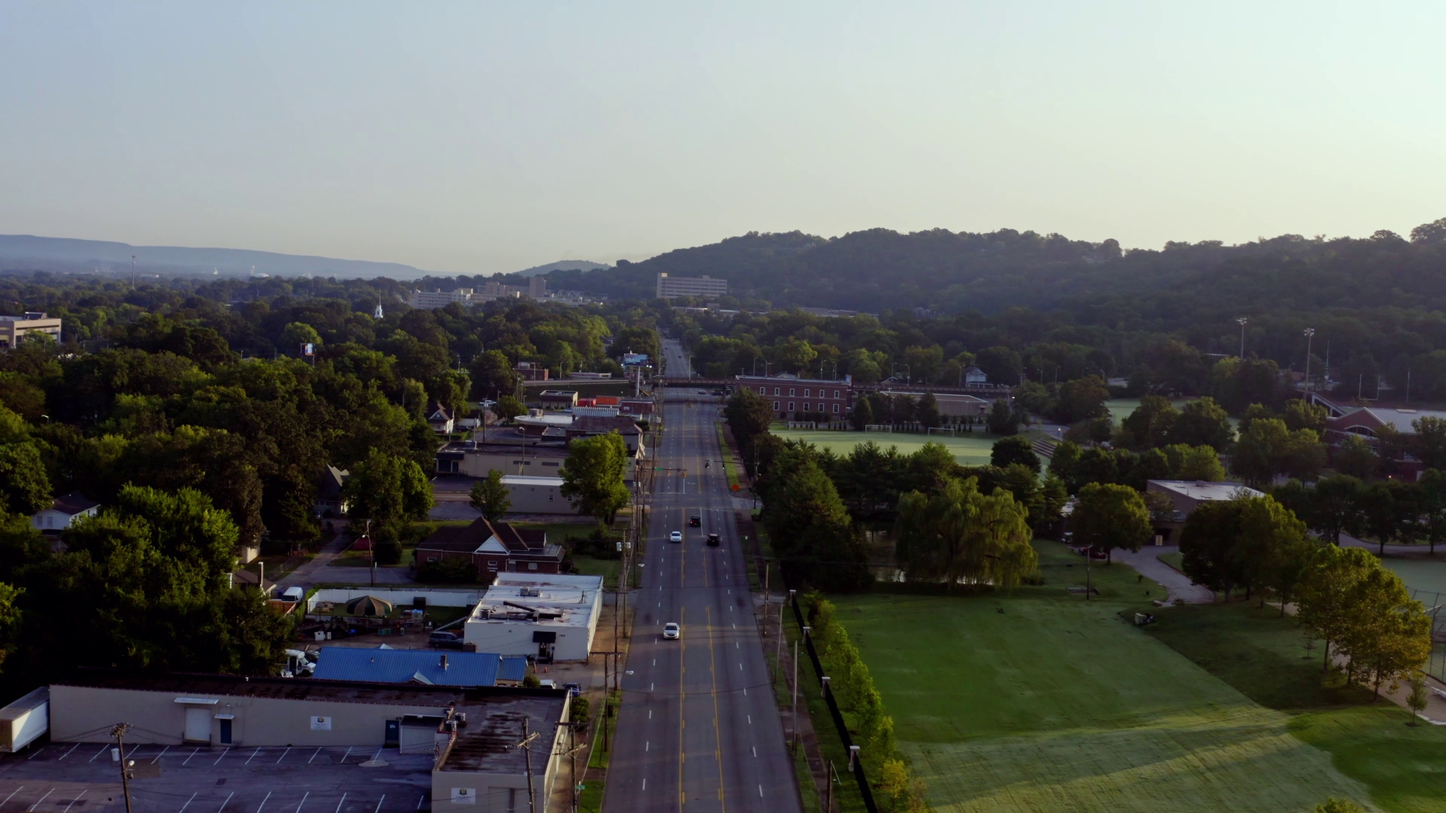Vehicle: (0, 316, 62, 350), (280, 649, 315, 678), (428, 631, 463, 649), (281, 587, 304, 603), (281, 587, 303, 603), (663, 623, 680, 639), (706, 533, 720, 546), (1078, 543, 1091, 555), (669, 531, 682, 543), (689, 516, 701, 527), (455, 425, 468, 432), (485, 400, 496, 406), (562, 408, 573, 413), (698, 390, 706, 395), (678, 355, 682, 357)
